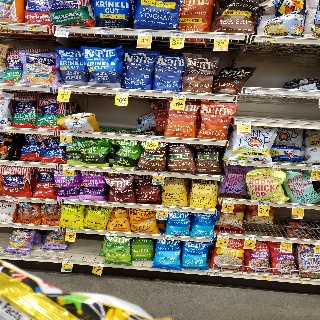All PRICE TAGS: (262, 37, 277, 43), (23, 26, 38, 31), (214, 34, 229, 39), (97, 29, 111, 34), (138, 31, 152, 36), (171, 32, 185, 37), (232, 161, 245, 166), (238, 120, 251, 125), (246, 89, 259, 94), (56, 27, 69, 32), (173, 93, 186, 98), (4, 128, 16, 133), (223, 198, 235, 203), (293, 204, 305, 209), (63, 259, 74, 264), (8, 197, 19, 202), (210, 271, 221, 276), (297, 279, 308, 284), (218, 234, 229, 239), (258, 202, 271, 206), (58, 87, 71, 91), (116, 90, 129, 94), (10, 162, 22, 166), (245, 236, 257, 240), (268, 164, 280, 168), (60, 131, 72, 135), (108, 169, 120, 173), (163, 236, 174, 240), (157, 206, 168, 210), (10, 224, 21, 228), (260, 276, 271, 280), (281, 239, 292, 243), (63, 166, 74, 170), (94, 262, 104, 266), (102, 202, 112, 206), (146, 138, 159, 141), (14, 256, 23, 260), (0, 25, 9, 29), (106, 232, 117, 235), (154, 173, 165, 176), (312, 167, 320, 171), (162, 269, 172, 272), (65, 200, 74, 203), (80, 229, 87, 232), (315, 242, 320, 245)
